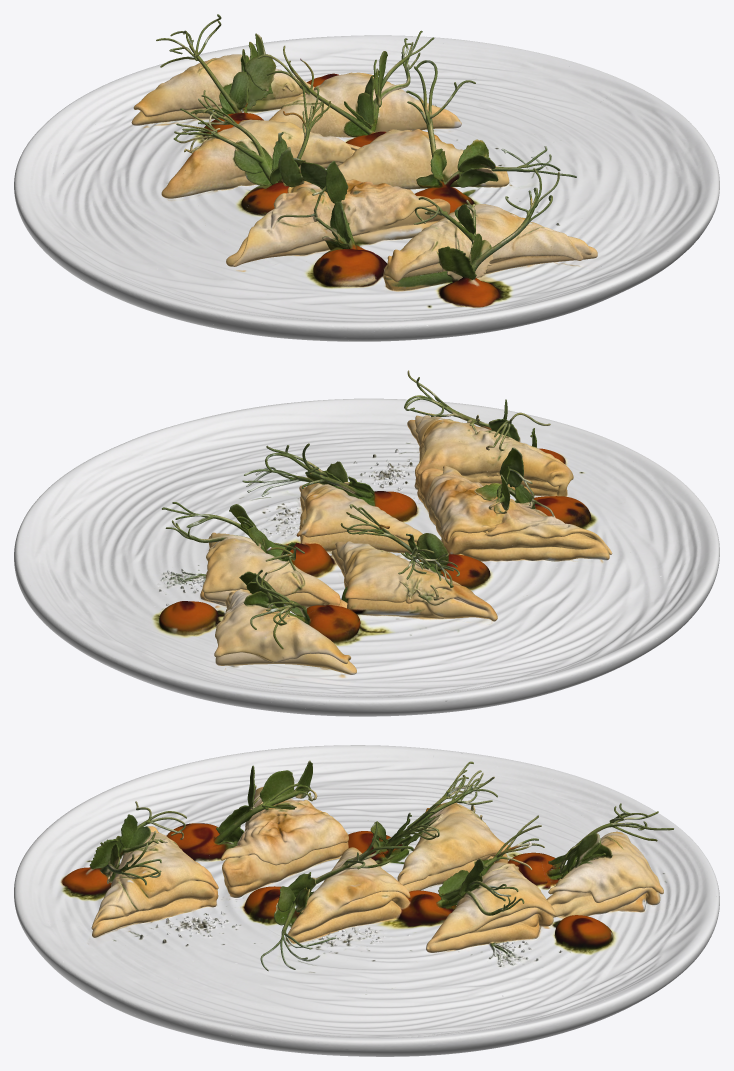
File: compressed_baked_tiropati.glb
The picture shows the model from 3 angles, top to bottom: view 1: azimuth 30°, elevation 25°; view 2: azimuth 150°, elevation 25°; view 3: azimuth 270°, elevation 25°; orthographic projection.
Visible parts, largest first — view 1: mesh_node; view 2: mesh_node; view 3: mesh_node.
Boxes of the visible parts, left/top/right/bottom form: mesh_node: left=14, top=14, right=719, bottom=341; mesh_node: left=14, top=370, right=719, bottom=716; mesh_node: left=14, top=745, right=719, bottom=1056.
Size of the model in its own units: 0.2538 by 0.0488 by 0.2538.
1 material, 1 textured.
